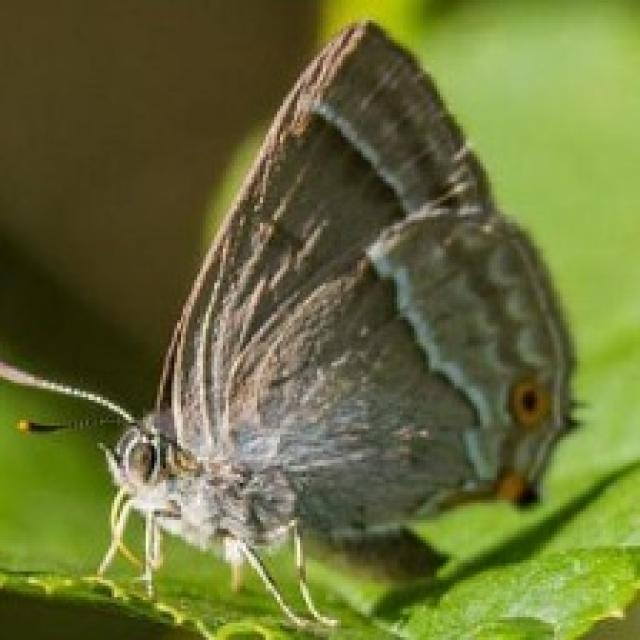butterfly: (0, 14, 586, 637)
